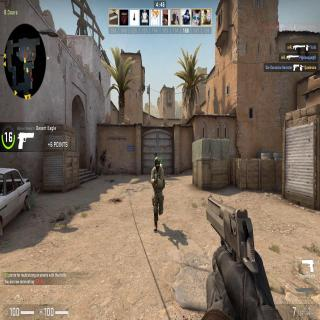CT-Body: (150, 157, 164, 220)
CT-Head: (153, 156, 160, 167)
